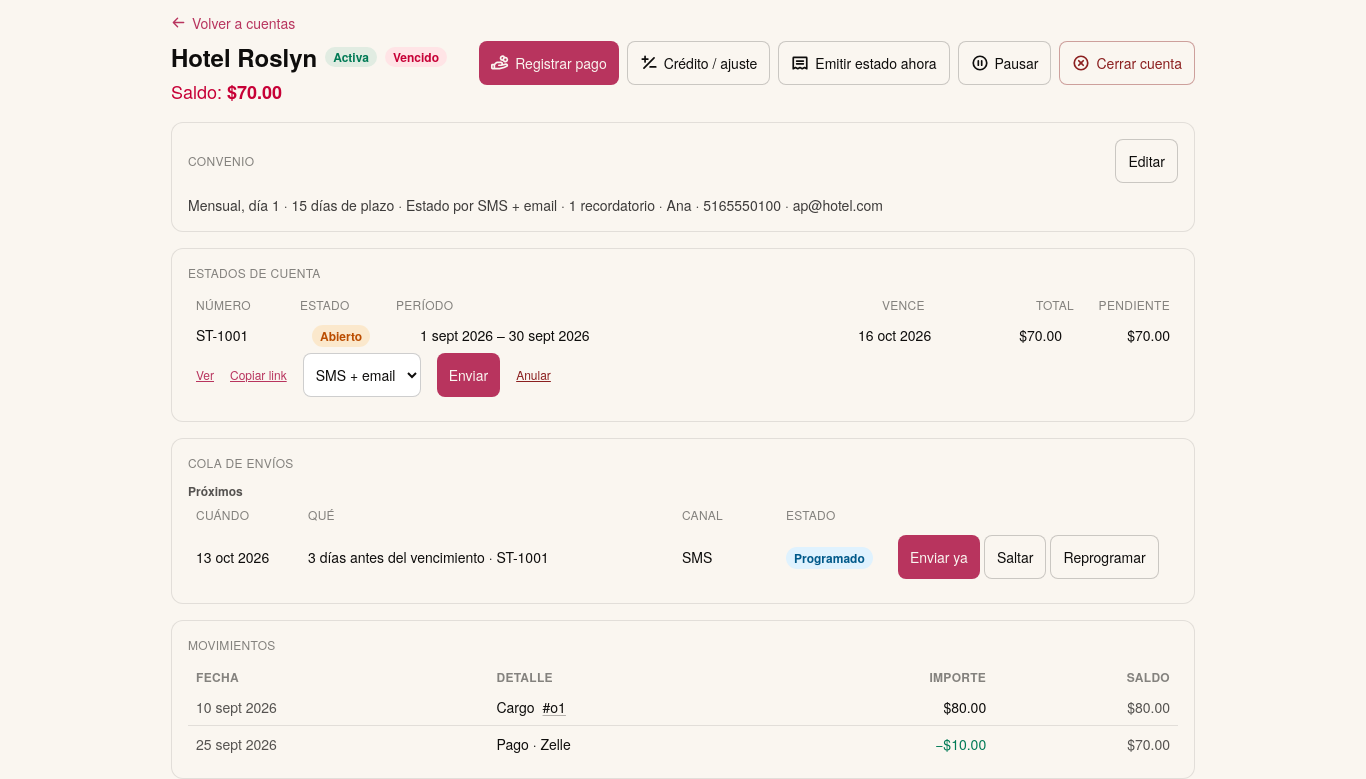
it: AccountDetail › issuing a statement › warns when the manual send went out but the queued copy could not be skipped
The image size is (1366, 779).
Click the button "Emitir estado ahora": (864, 62) [778, 40, 950, 84]
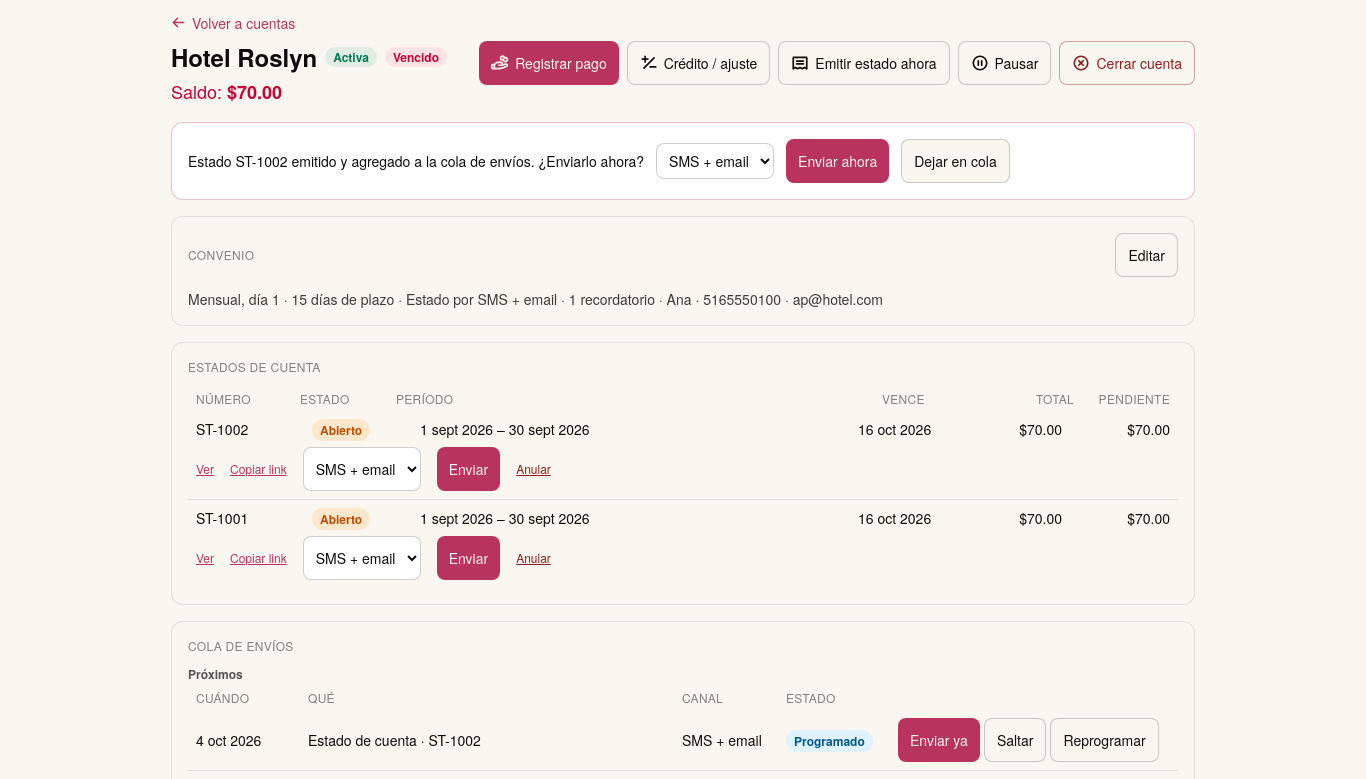
Expected: the text "emitido y agregado a la cola de envíos" is shown, [188, 150, 644, 170]
Select "SMS" in the 1st dropdown named "Enviar por": (715, 160) [656, 142, 774, 178]
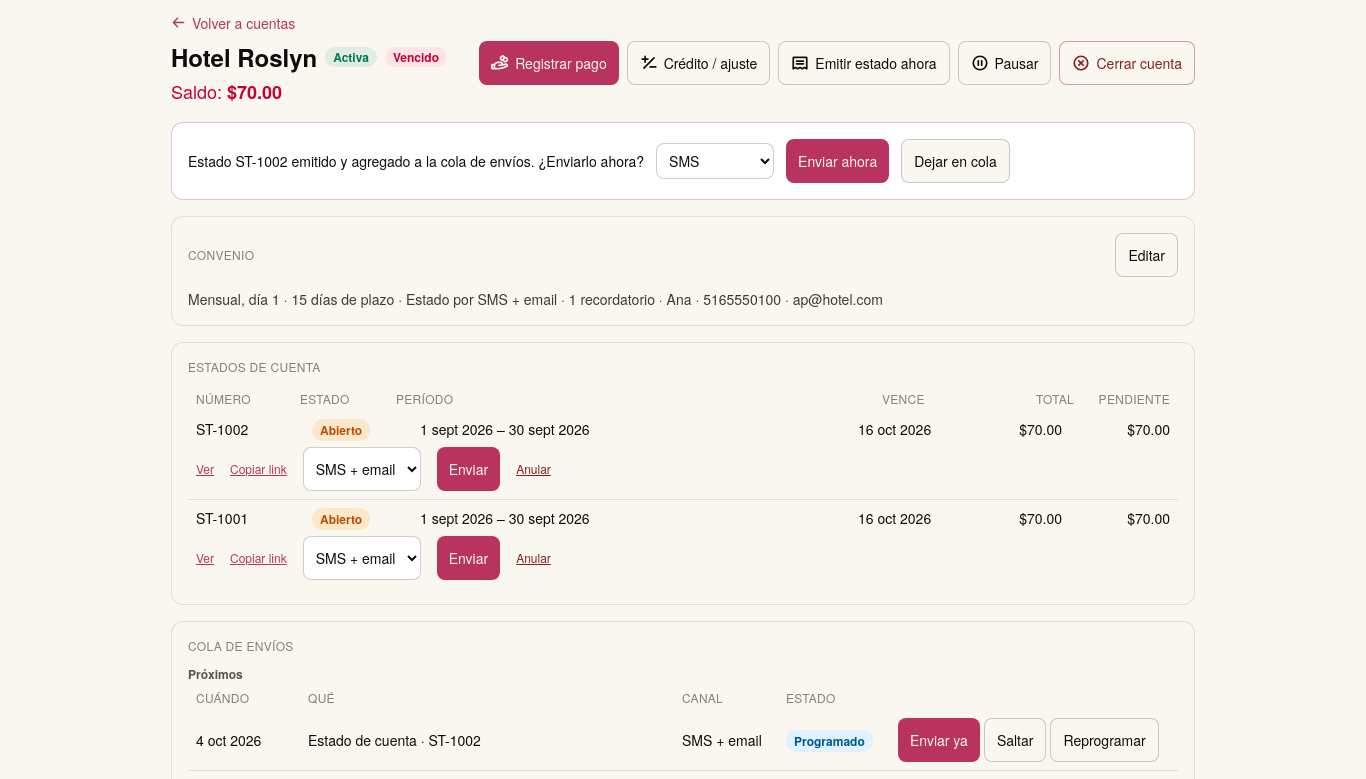
Click the button "Enviar ahora": (838, 160) [786, 138, 889, 182]
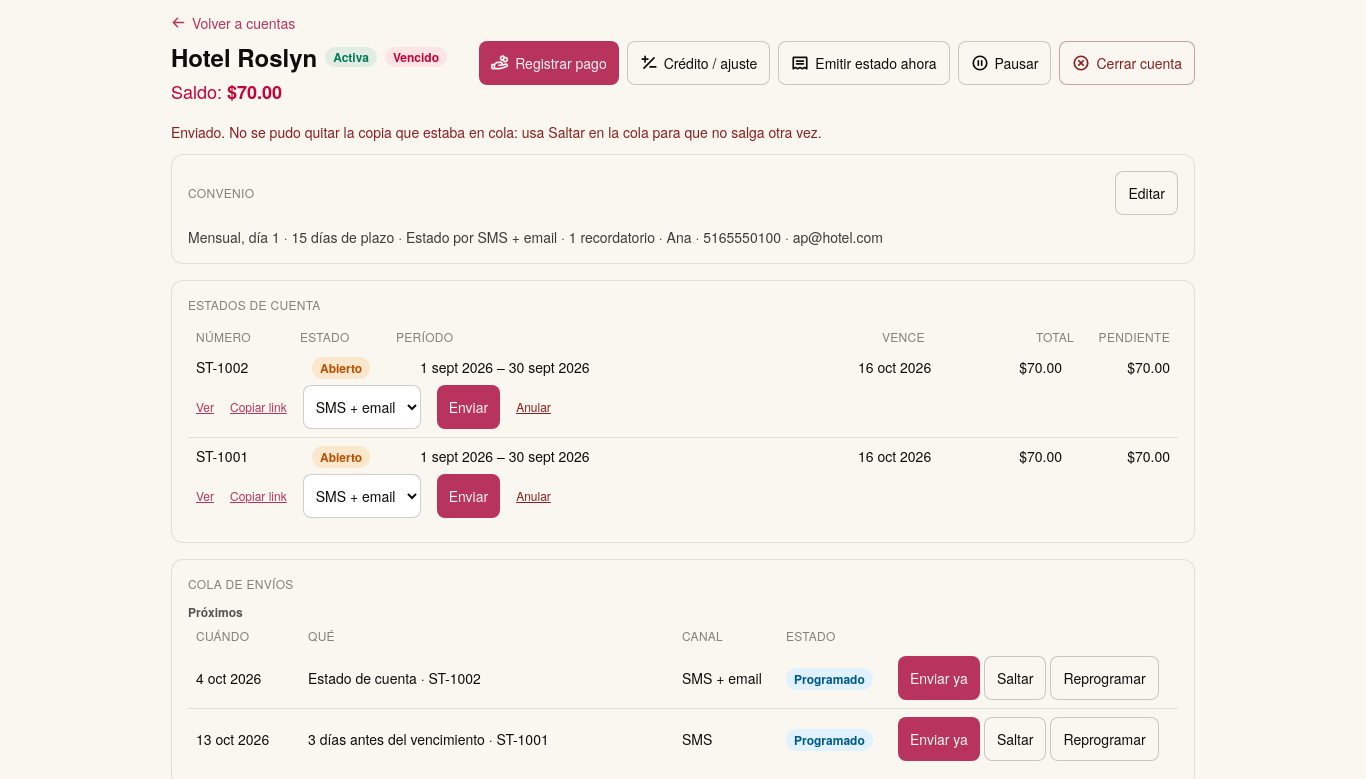
Expected: the text "No se pudo quitar la copia que estaba en cola" is shown, [171, 122, 822, 142]
